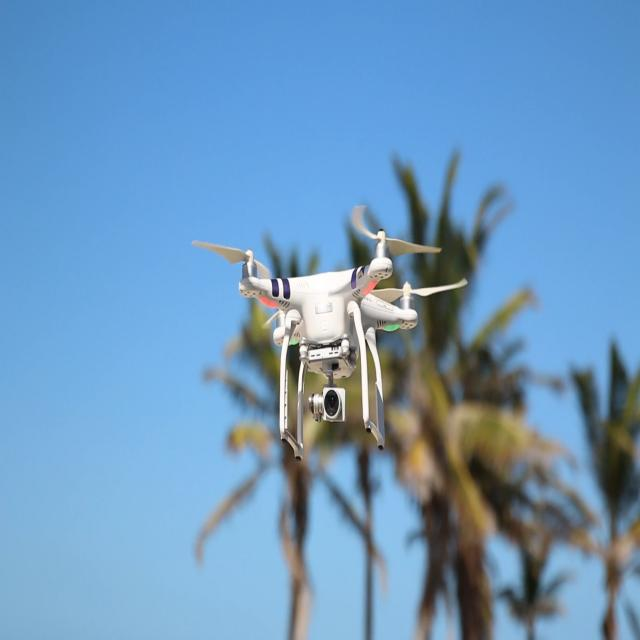Drone: (172, 192, 470, 462)
